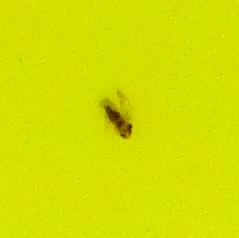Hemiptera: (100, 100, 139, 138)
